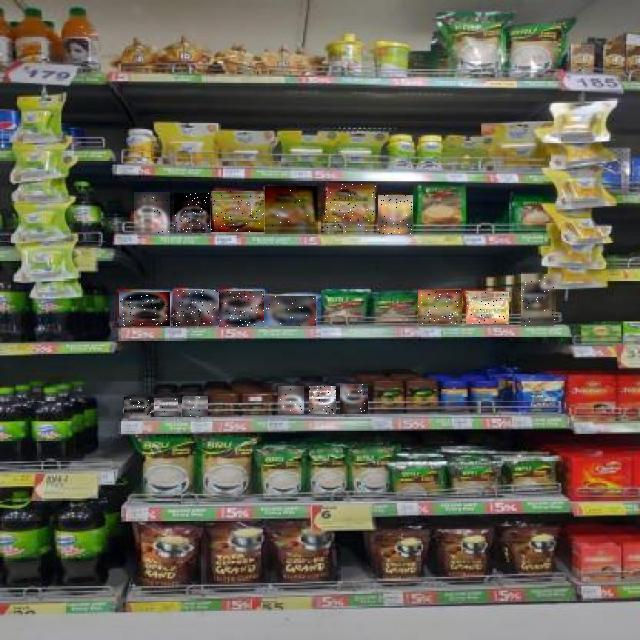Coffee: (324, 183, 376, 233), (266, 186, 320, 234), (211, 191, 264, 232), (522, 274, 556, 326), (119, 292, 170, 326), (173, 291, 218, 327), (219, 291, 264, 327), (264, 296, 316, 326), (135, 192, 171, 234), (418, 290, 462, 324), (175, 193, 211, 233), (466, 291, 509, 324), (378, 195, 413, 234), (340, 384, 368, 414), (309, 386, 336, 414), (279, 386, 305, 414), (124, 398, 151, 418), (183, 396, 209, 416), (154, 399, 178, 417)
